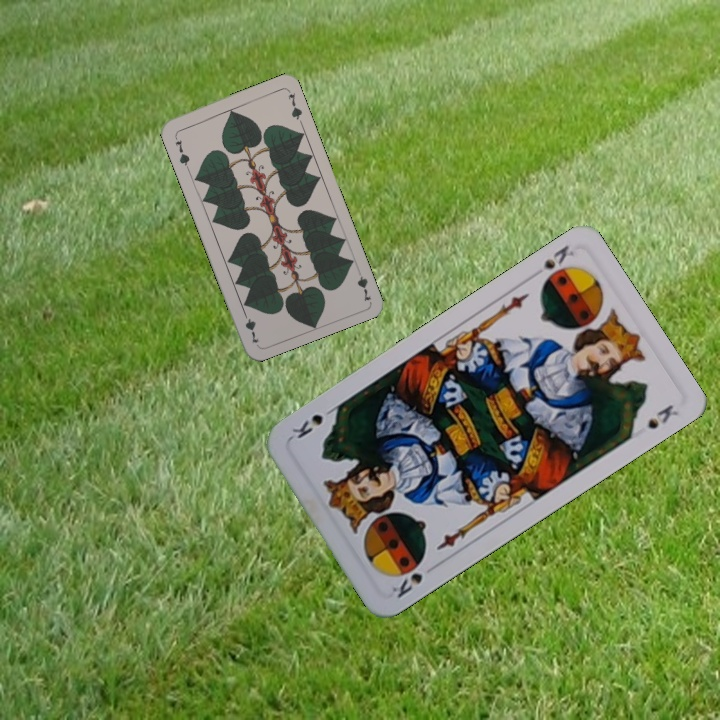G7: (352, 263, 374, 304), (170, 131, 192, 170)
SK: (387, 556, 427, 601), (538, 241, 577, 272)
